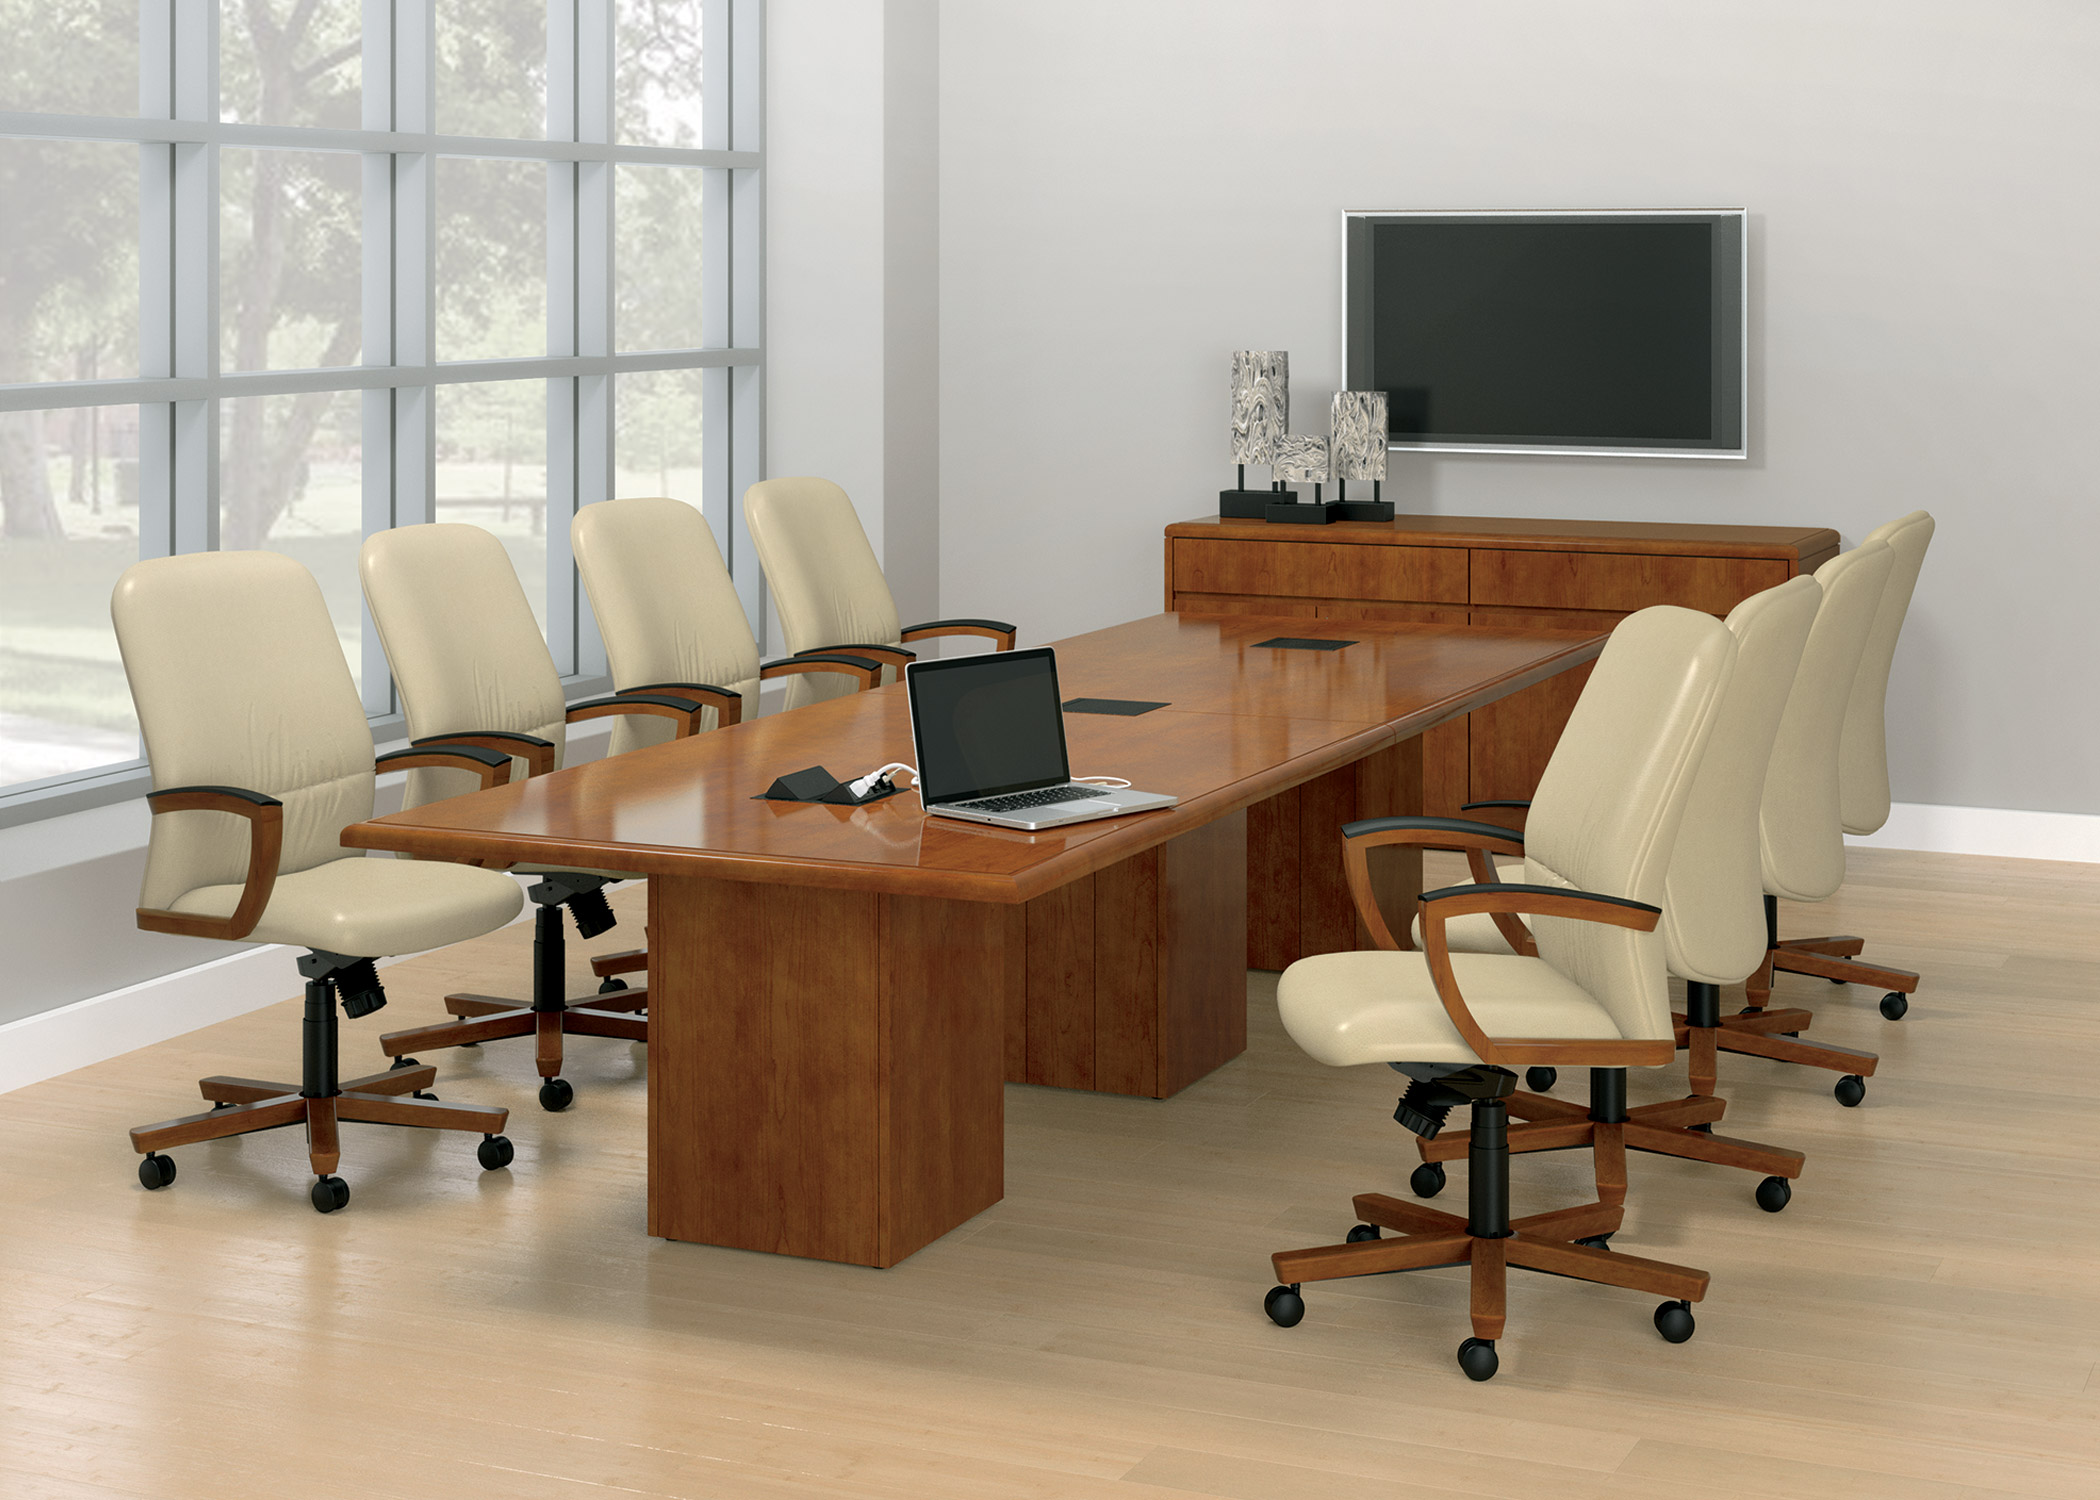conference_table: (340, 606, 1628, 1268)
